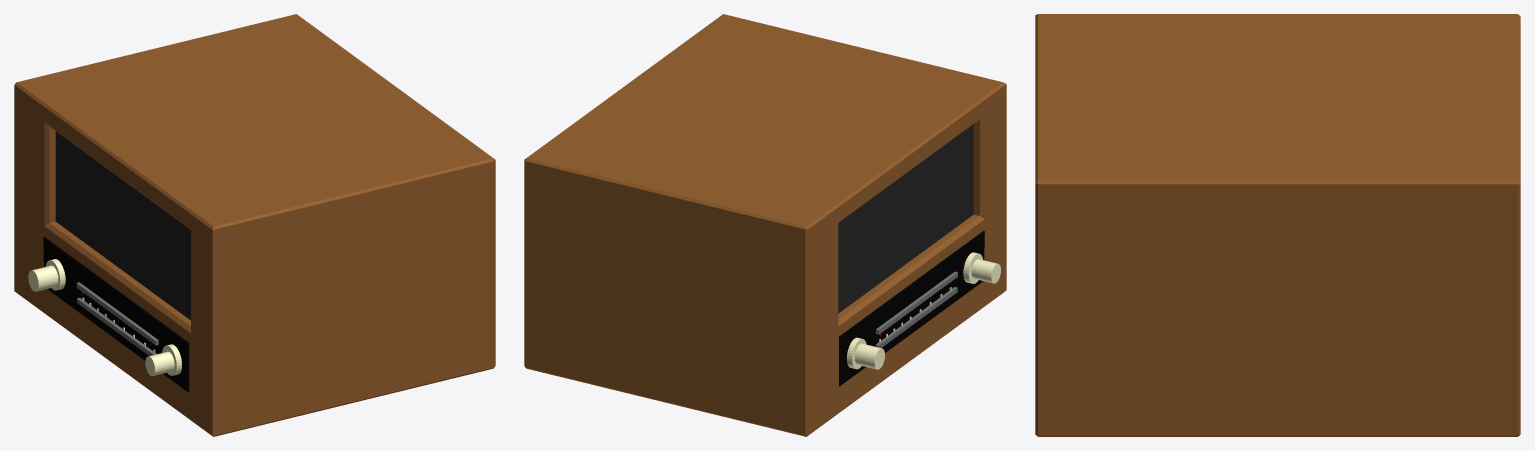
Rendered from radio.fbx.
3 renders of one model, left to right at view 1: azimuth 30°, elevation 25°; view 2: azimuth 150°, elevation 25°; view 3: azimuth 270°, elevation 25°, orthographic. The views are drawn at different scales.
Parts seen in each view (by area): view 1: Cube, Cylinder.003; view 2: Cube, Cylinder.003; view 3: Cube.
Boxes of the visible parts, <box> form: Cube: <box>14,14,495,436</box>; Cylinder.003: <box>28,237,189,392</box>; Cube: <box>524,14,1006,436</box>; Cylinder.003: <box>839,231,1000,386</box>; Cube: <box>1035,14,1520,436</box>.
Size of the model in its own units: 337 by 218 by 375.
